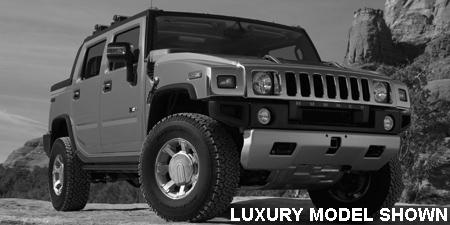car: (45, 9, 413, 224)
